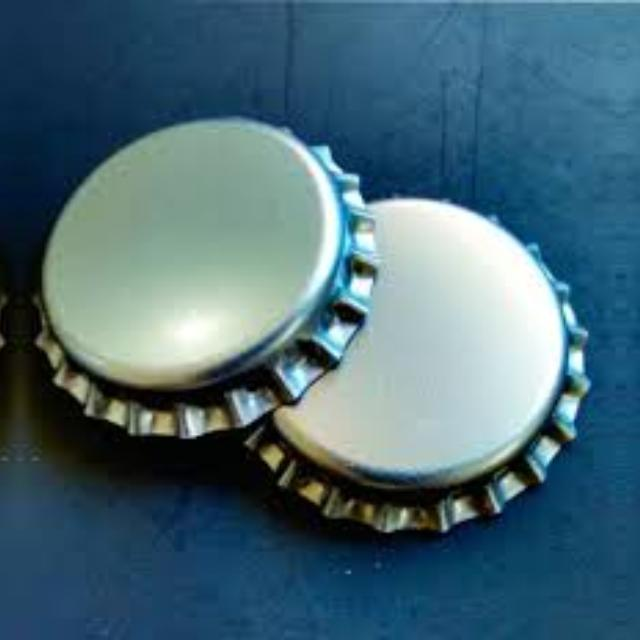Metal: (231, 182, 604, 558), (30, 98, 392, 426), (0, 98, 8, 426), (637, 181, 640, 558)
